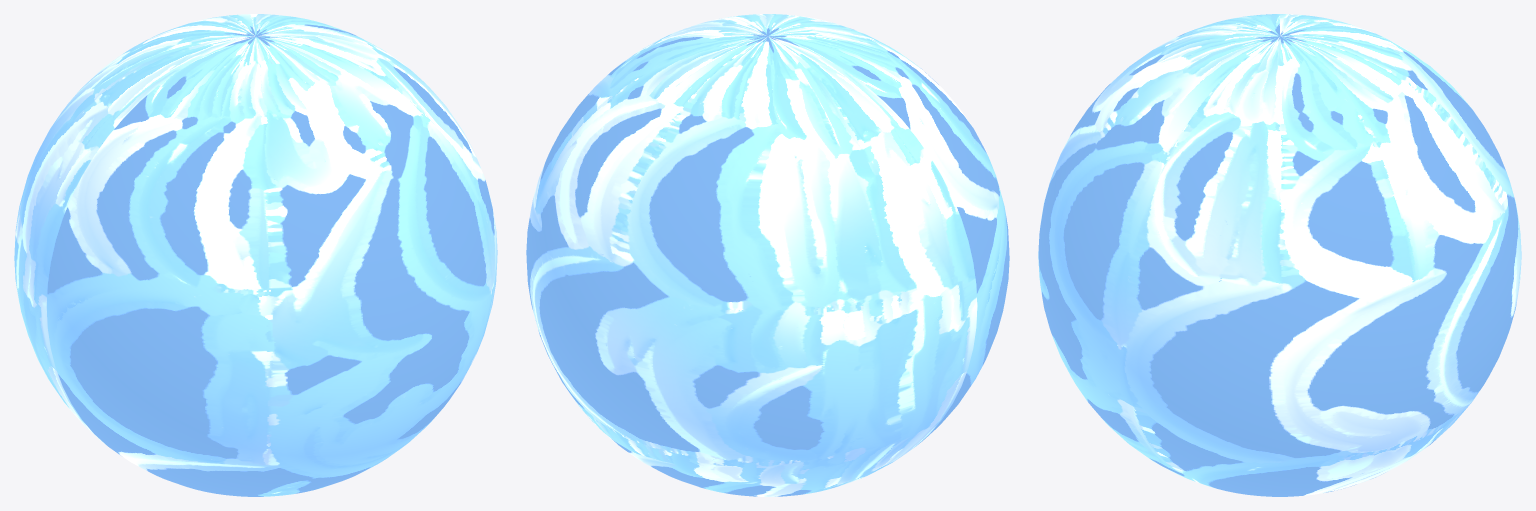
3 renders of one model, left to right at view 1: azimuth 30°, elevation 25°; view 2: azimuth 150°, elevation 25°; view 3: azimuth 270°, elevation 25°, orthographic.
Visible parts, largest first — view 1: Planet_0; view 2: Planet_0; view 3: Planet_0.
Part boxes in pixels (left/top/right/bottom): Planet_0: left=14, top=14, right=497, bottom=496; Planet_0: left=526, top=14, right=1009, bottom=496; Planet_0: left=1038, top=14, right=1521, bottom=496.
Size of the model in its own units: 2.04 by 2.04 by 2.04.
